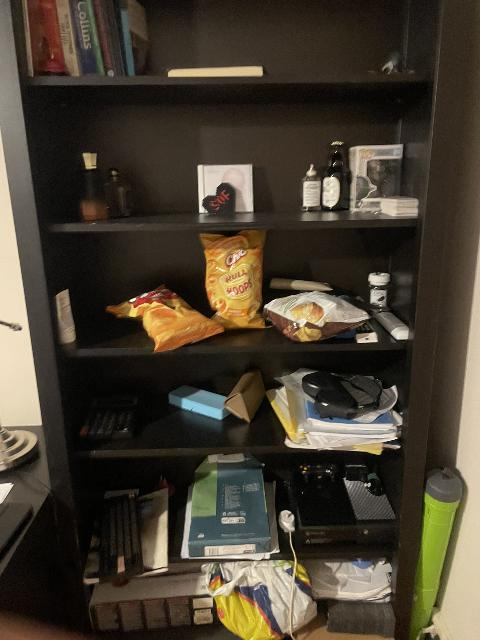Chio Cascaval 125g: (106, 284, 223, 353)
Chio Hula Hoops Cheese 70g: (199, 230, 268, 330)
Lays Beef Grilled Ribs 125g: (261, 290, 372, 343)
